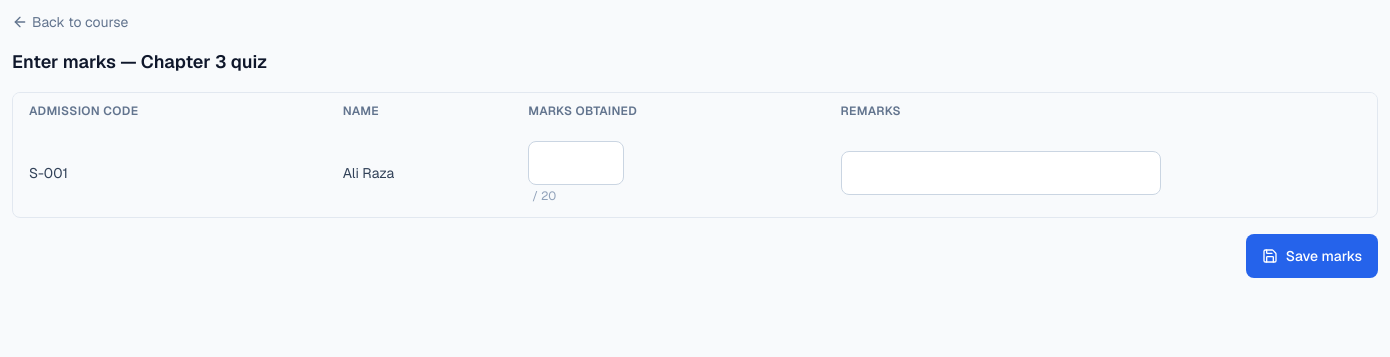
Test: ClassTestMarksEntryPage › shows the whole class roster and saves entered marks
The image size is (1390, 357).
expect the heading "Enter marks — Chapter 3 quiz" is shown: met, box [12, 50, 267, 73]
expect the text "Ali Raza" is shown: met, box [327, 129, 512, 217]
Type "17" into the number field named "Marks for Ali Raza". click: (576, 163)
box: [528, 141, 624, 185]
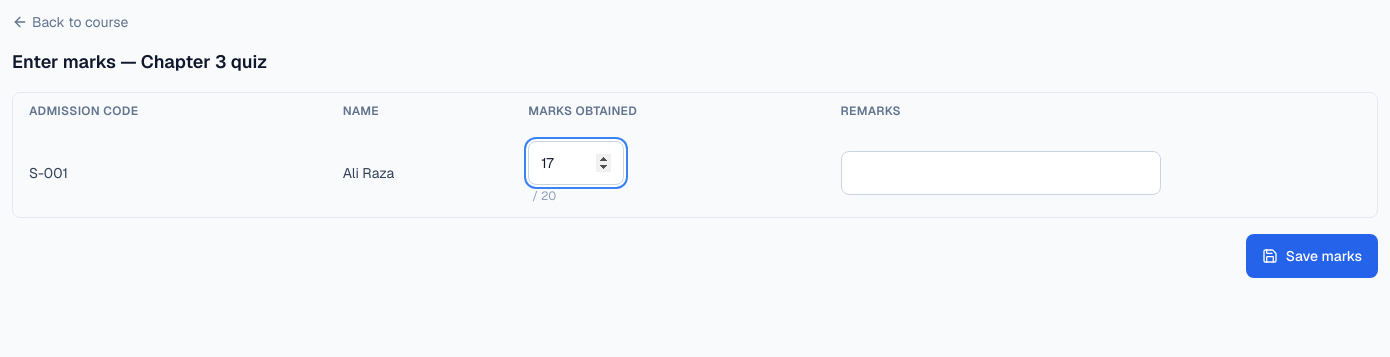
Click the button "Save marks". click: (1312, 256)
box: [1246, 234, 1378, 278]
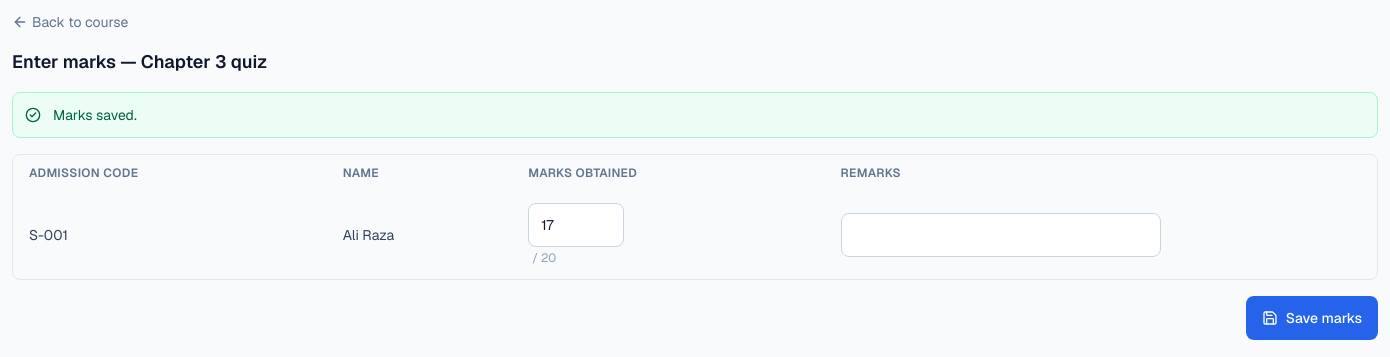
expect the text "Marks saved." is shown: met, box [53, 105, 137, 125]
